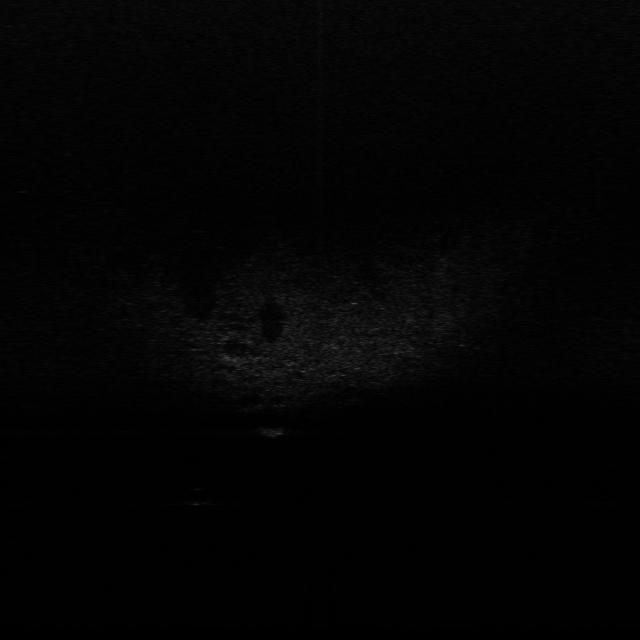ball: (184, 485, 216, 507)
cube: (256, 418, 290, 442)
